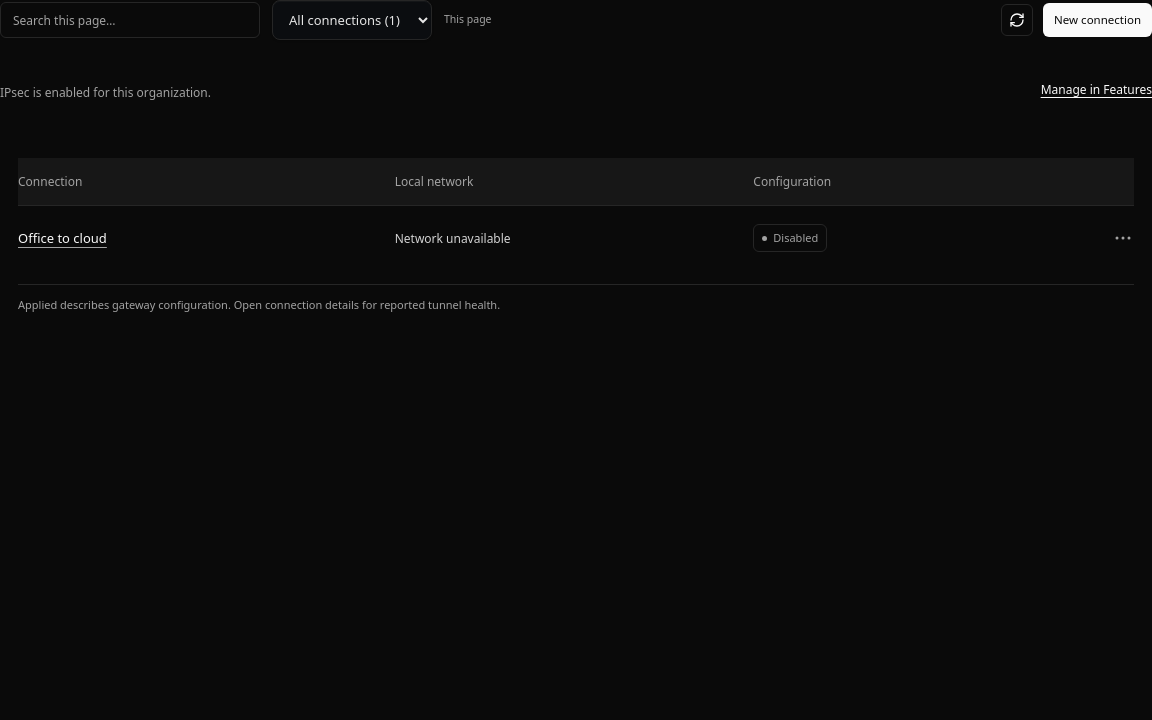
it: deletes only after confirmation using the displayed revision
Click the button named "Connection actions for Office to cloud" at (1123, 238), box [1112,222,1134,254]
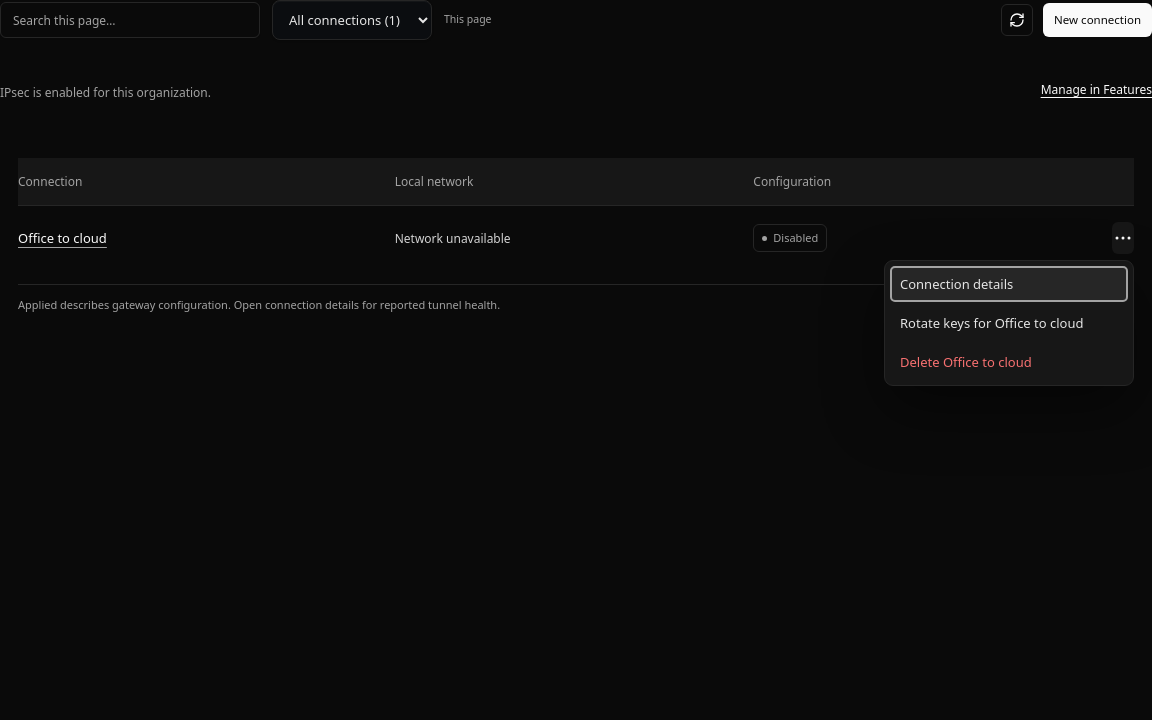
Click the menu item "Delete Office to cloud" at (1009, 362), box [890,344,1128,380]
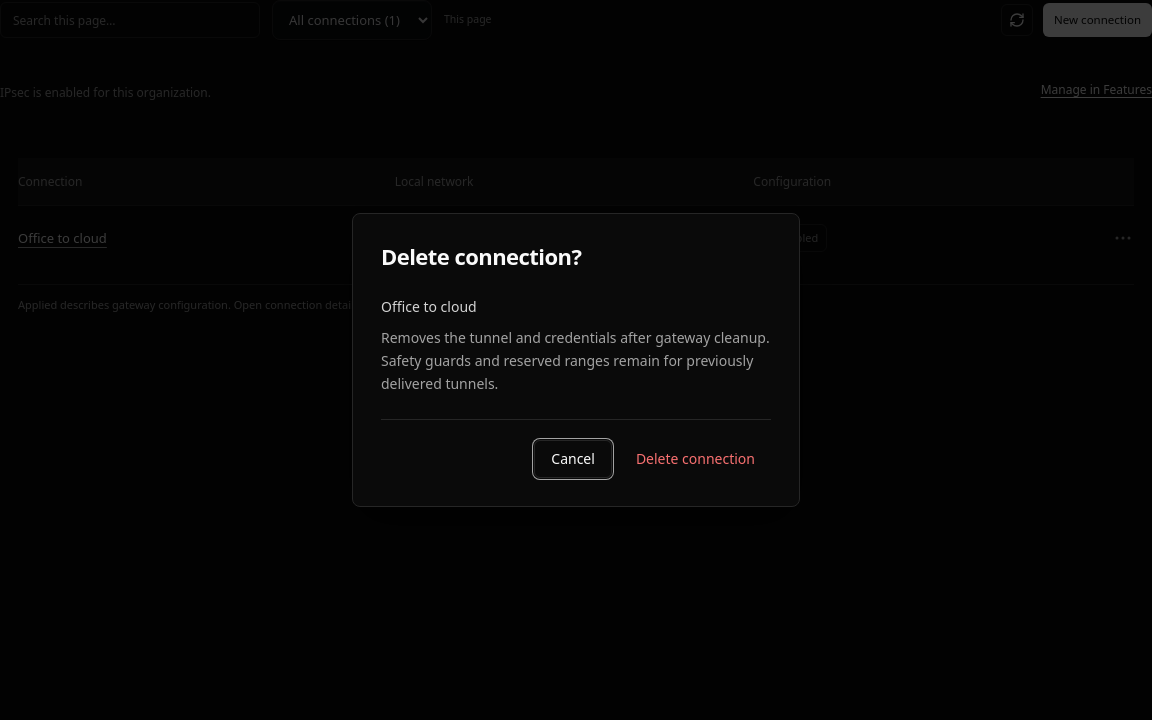
Click the button "Delete connection" at (695, 459), box [620,440,771,478]
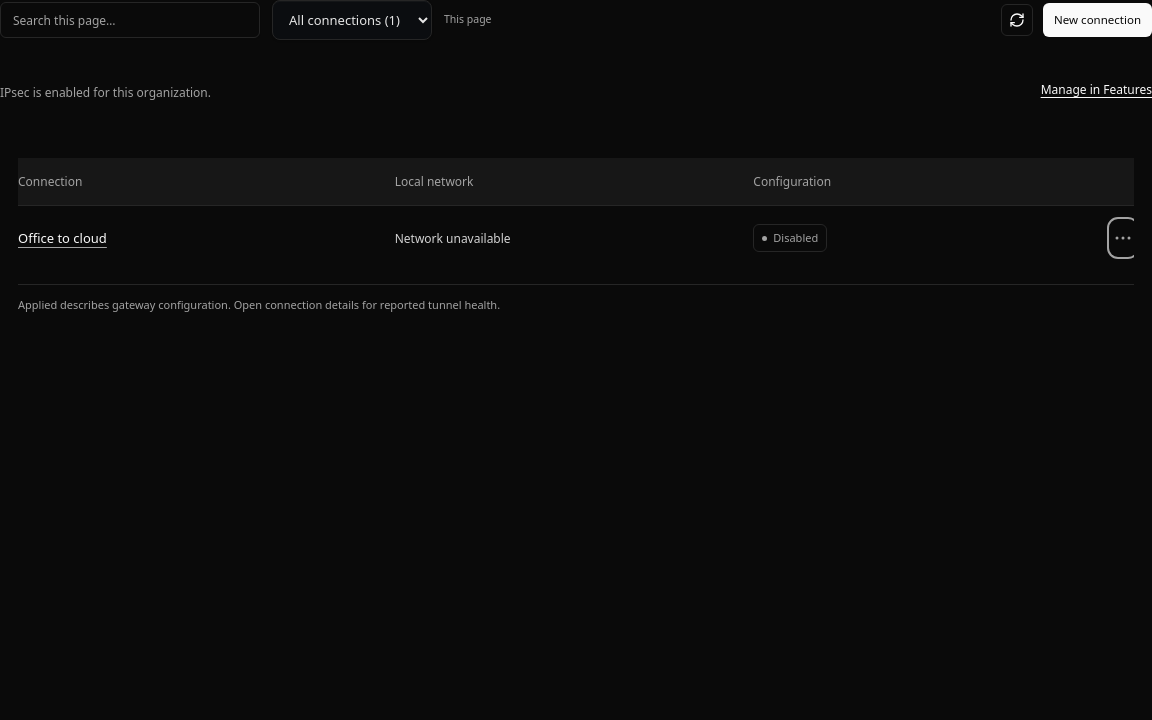
Result: the dialog is gone
